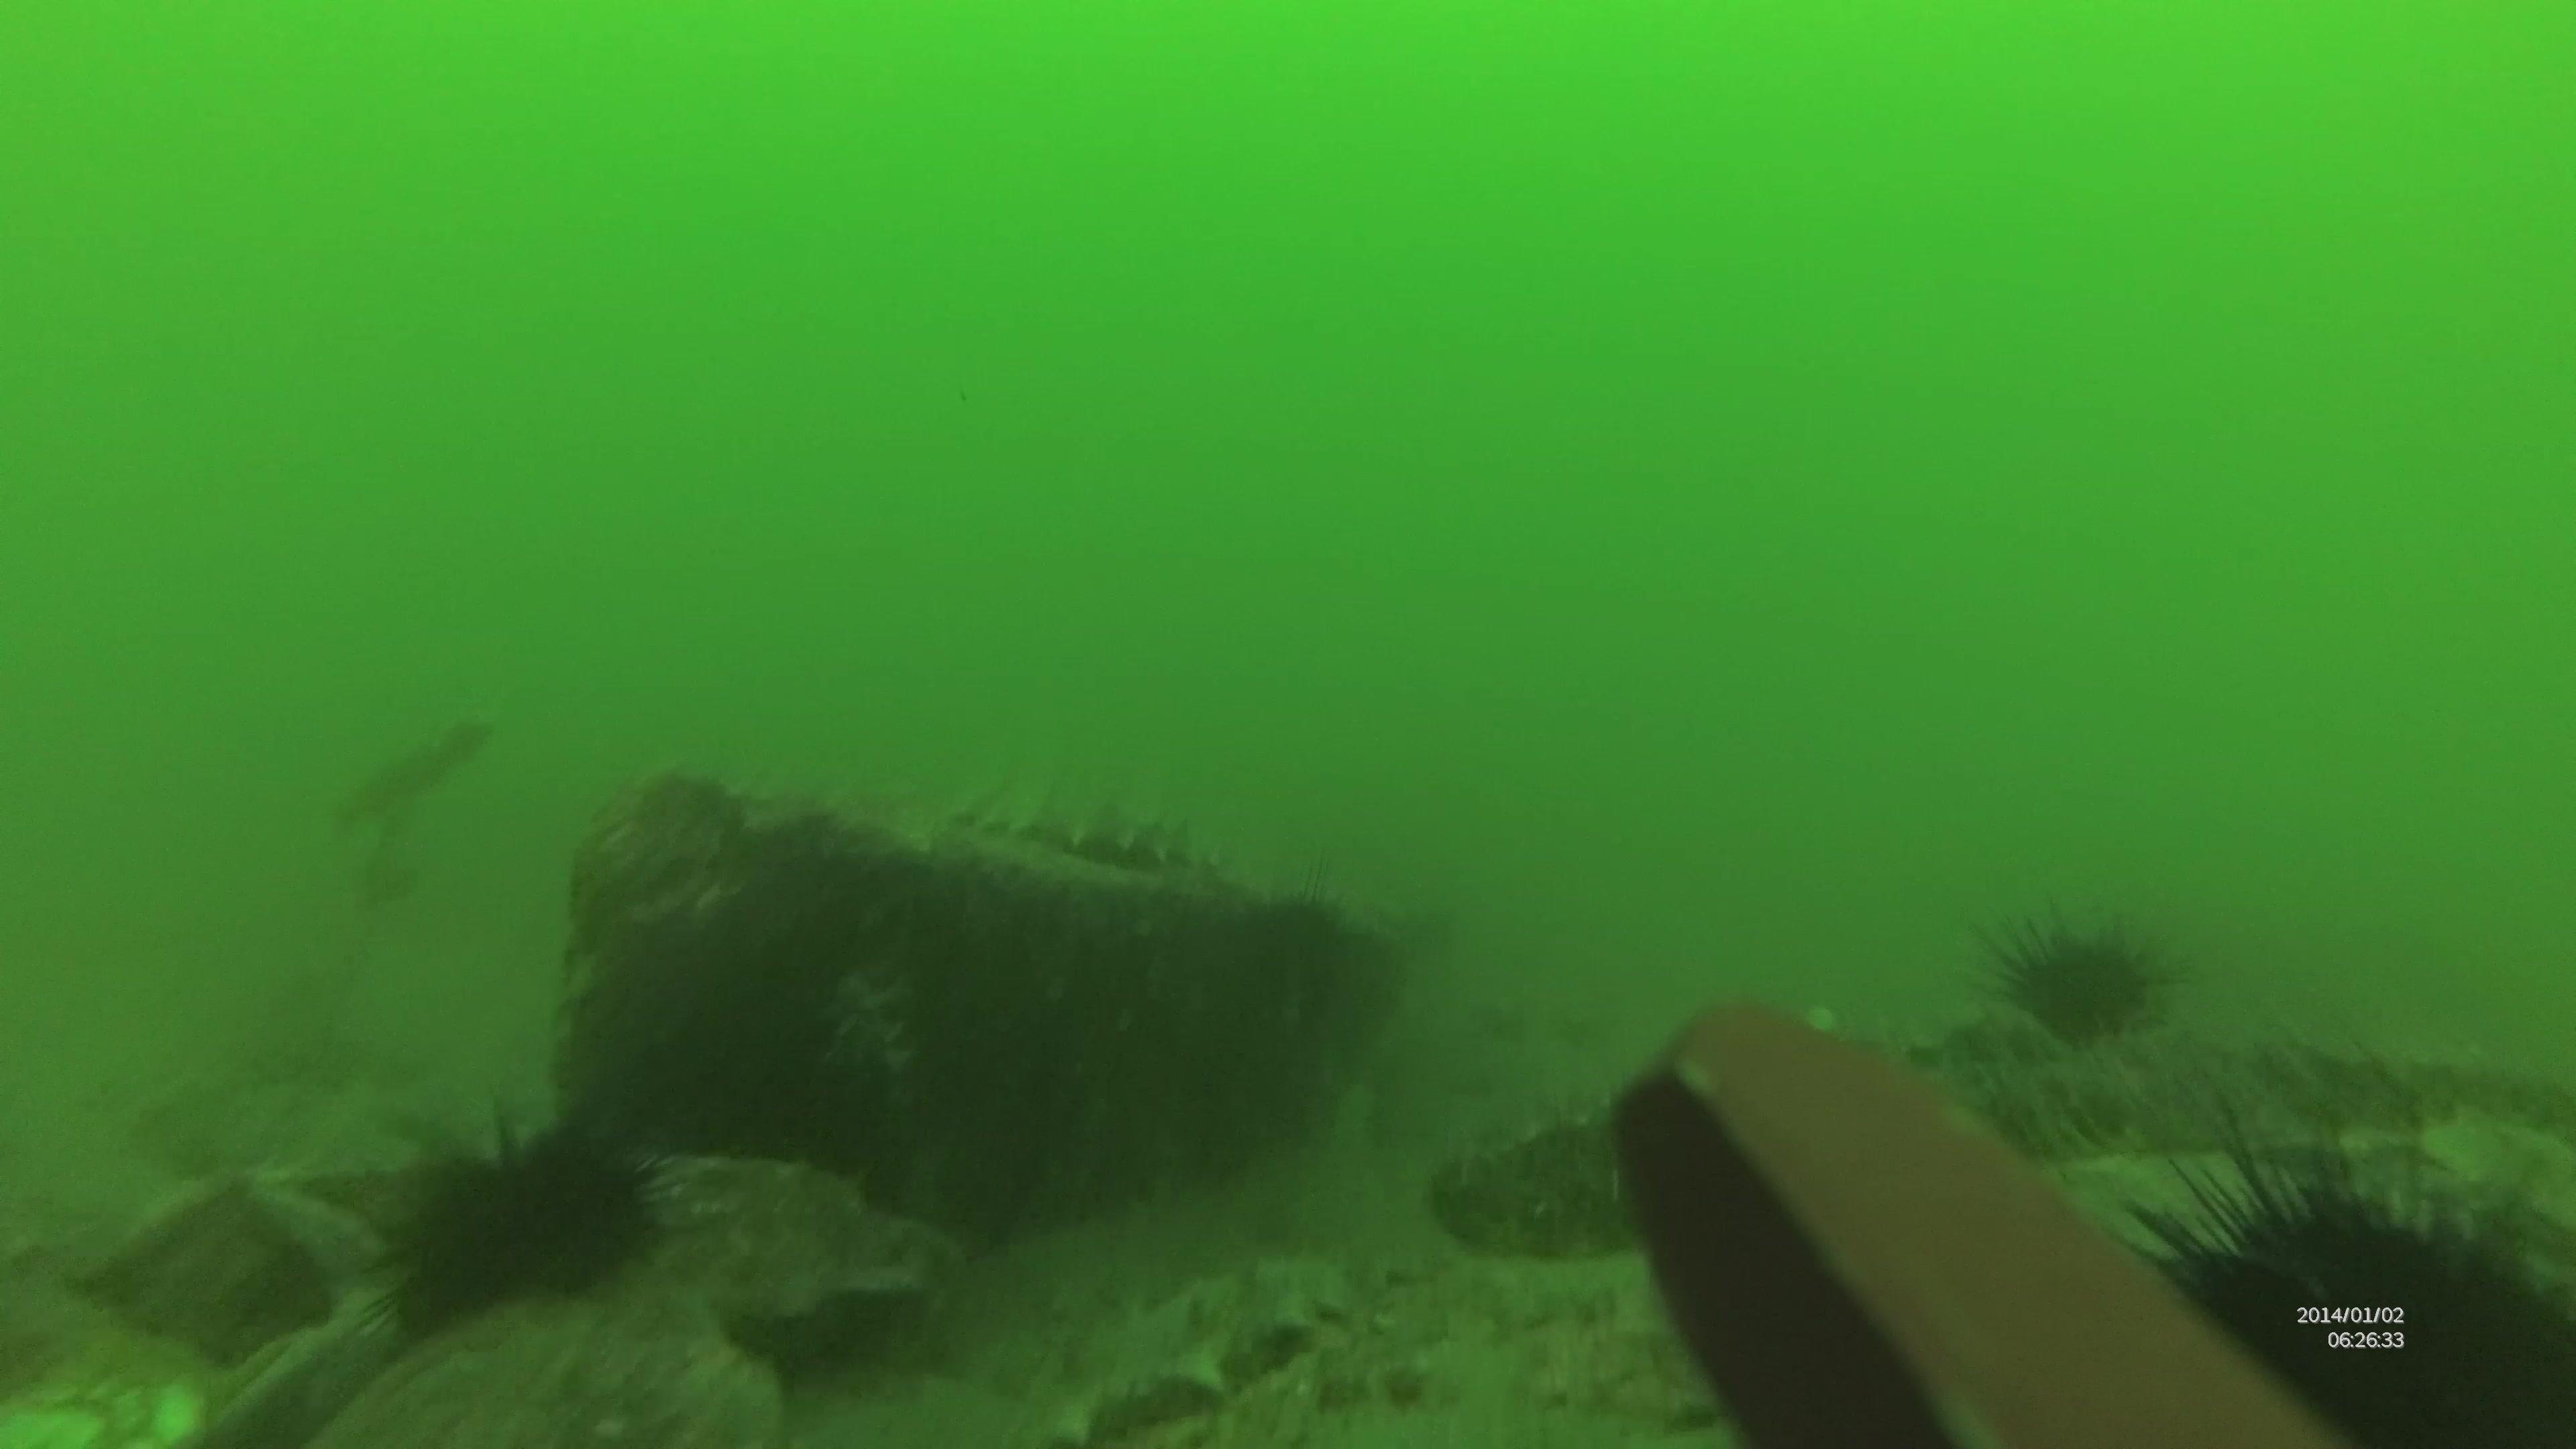echinus: (2143, 1155, 2576, 1449), (377, 1120, 653, 1302), (1235, 878, 1380, 1039), (2006, 924, 2157, 1026)
holothurian: (1008, 1258, 1355, 1435), (939, 766, 1249, 892), (814, 968, 913, 1162)
